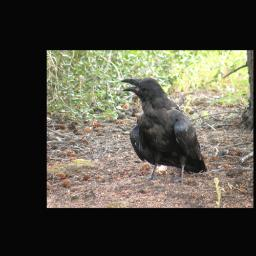Crow: (120, 77, 209, 185)
